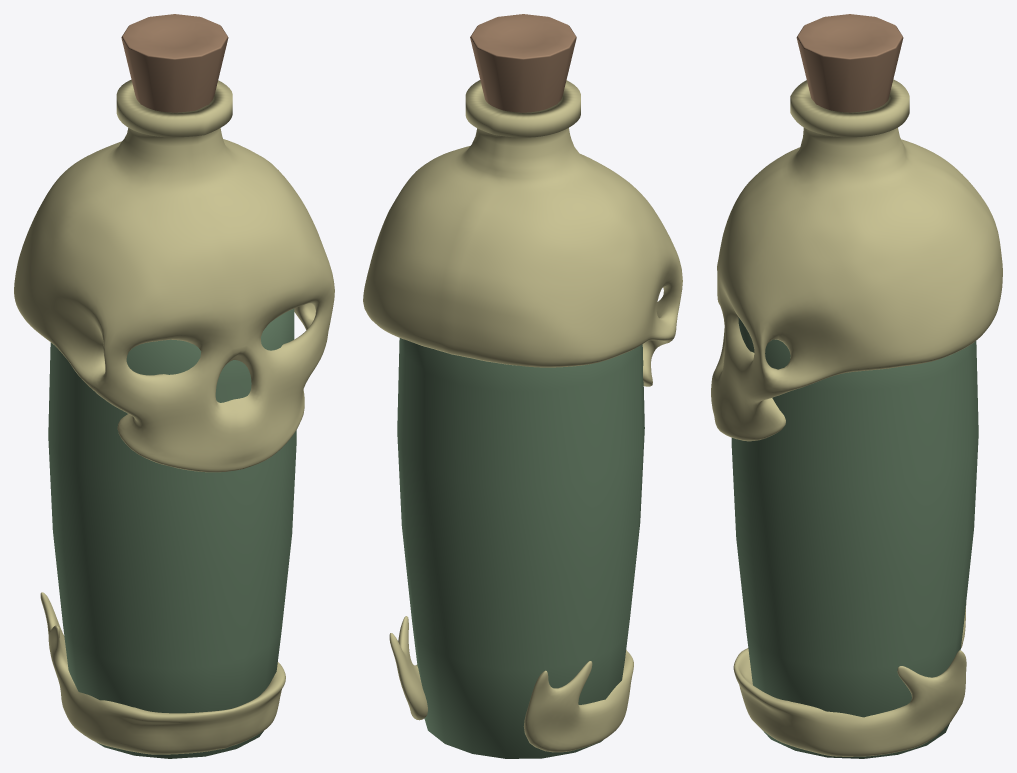
The model's file is poision_pot.fbx.
The picture shows the model from 3 angles, left to right: view 1: azimuth 30°, elevation 25°; view 2: azimuth 150°, elevation 25°; view 3: azimuth 270°, elevation 25°; orthographic projection.
Parts seen in each view (by area): view 1: polySurface51, polySurface50, pCylinder8; view 2: polySurface50, polySurface51, pCylinder8; view 3: polySurface51, polySurface50, pCylinder8.
Part boxes in pixels (left/top/right/bottom): polySurface51: left=14, top=79, right=334, bottom=754; polySurface50: left=48, top=309, right=296, bottom=758; pCylinder8: left=121, top=14, right=228, bottom=112; polySurface50: left=397, top=338, right=644, bottom=758; polySurface51: left=363, top=80, right=682, bottom=752; pCylinder8: left=470, top=14, right=576, bottom=112; polySurface51: left=711, top=79, right=1002, bottom=756; polySurface50: left=731, top=317, right=978, bottom=758; pCylinder8: left=796, top=14, right=903, bottom=112.
Bounding box in the file's own units: 16.02 × 39.85 × 15.47.
